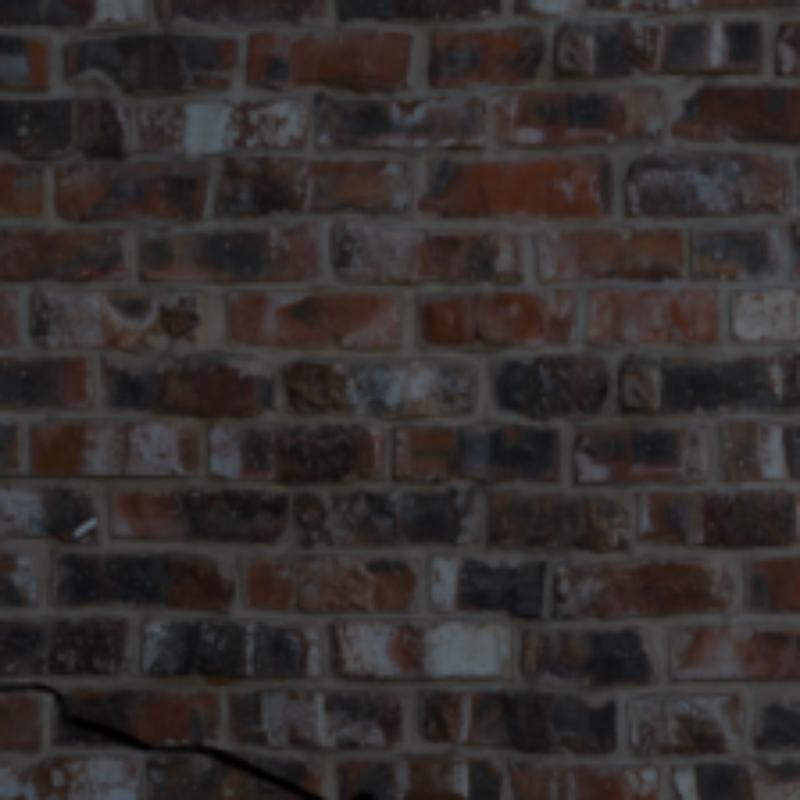pothole: (0, 686, 321, 796), (354, 789, 375, 796), (125, 439, 129, 457), (129, 425, 136, 432), (121, 464, 125, 475)
